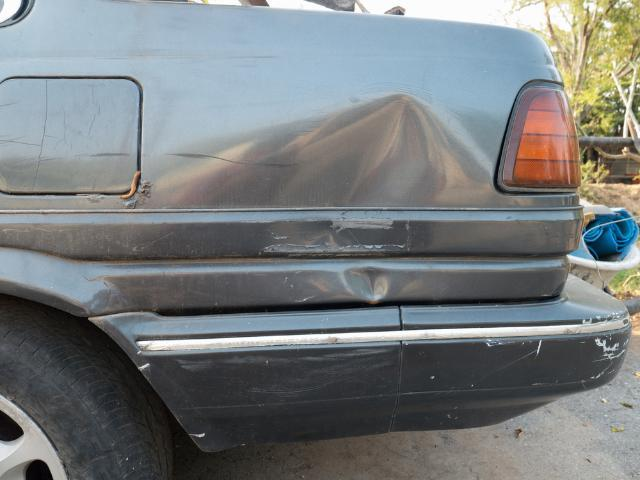dent: (159, 93, 484, 209), (343, 266, 386, 302)
scratch: (583, 310, 630, 383)
